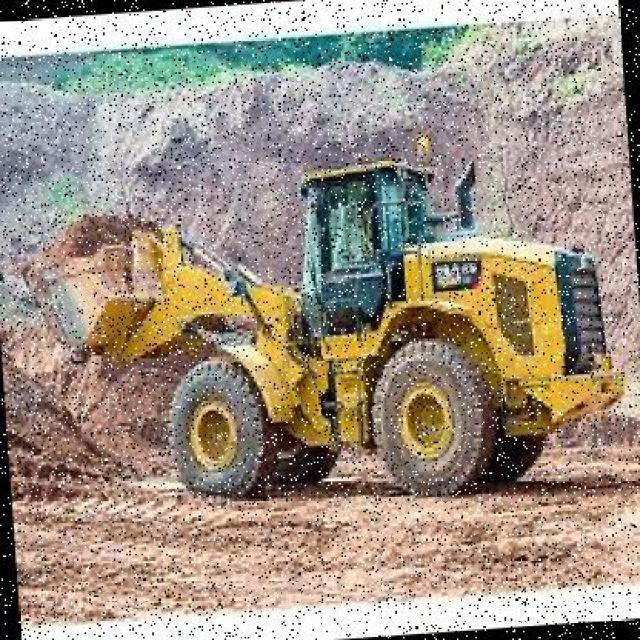buldozerpayloadergrader: (42, 120, 640, 538)
